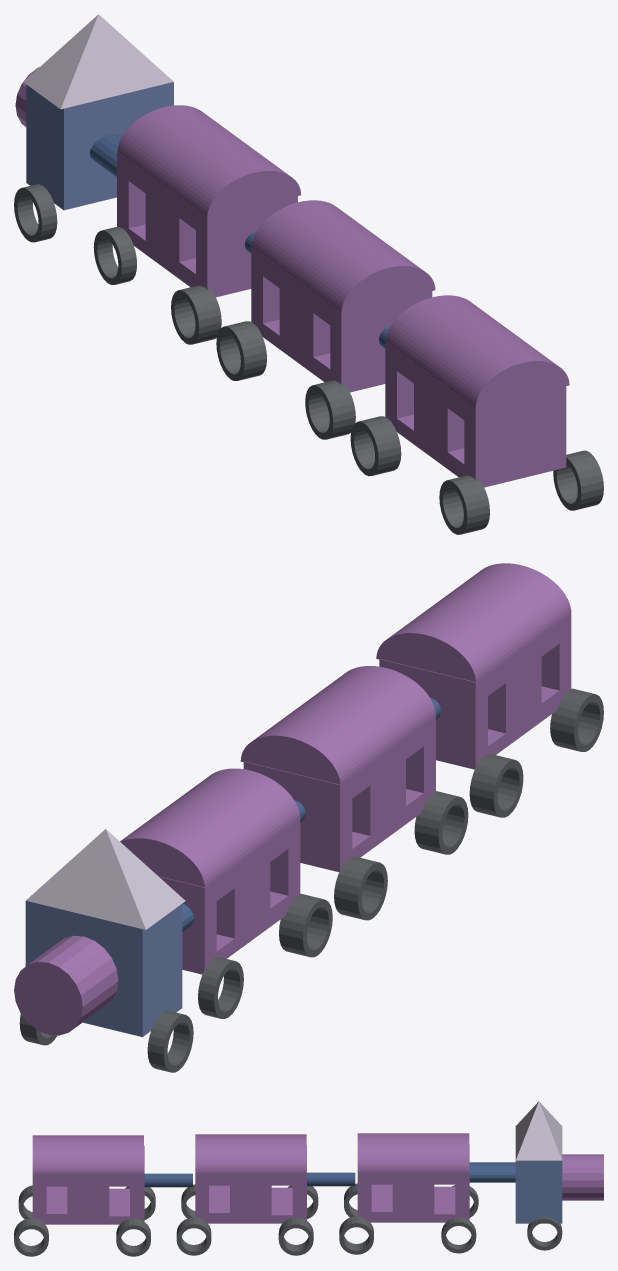
File: Fabulous Bombul-Maimu.glb
3 views of the same model, one above another, from view 1: azimuth 30°, elevation 25°; view 2: azimuth 150°, elevation 25°; view 3: azimuth 270°, elevation 25° (orthographic). The views are drawn at different scales.
Visible parts, largest first — view 1: Mesh_Mesh_head_geo.001_lambert2SG.001; view 2: Mesh_Mesh_head_geo.001_lambert2SG.001; view 3: Mesh_Mesh_head_geo.001_lambert2SG.001.
Part boxes in pixels (x1=…): Mesh_Mesh_head_geo.001_lambert2SG.001: x1=14, y1=14, x2=603, y2=534; Mesh_Mesh_head_geo.001_lambert2SG.001: x1=14, y1=563, x2=603, y2=1072; Mesh_Mesh_head_geo.001_lambert2SG.001: x1=14, y1=1101, x2=603, y2=1256.
Bounding box in the file's own units: 47 × 62 × 254.
